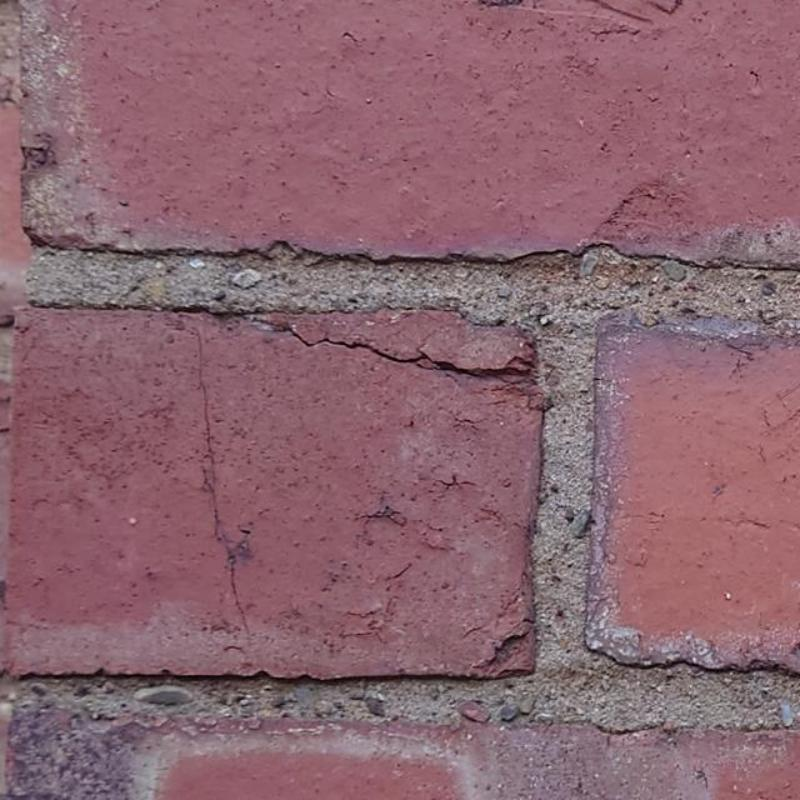pothole: (192, 326, 253, 642), (249, 317, 533, 381)
